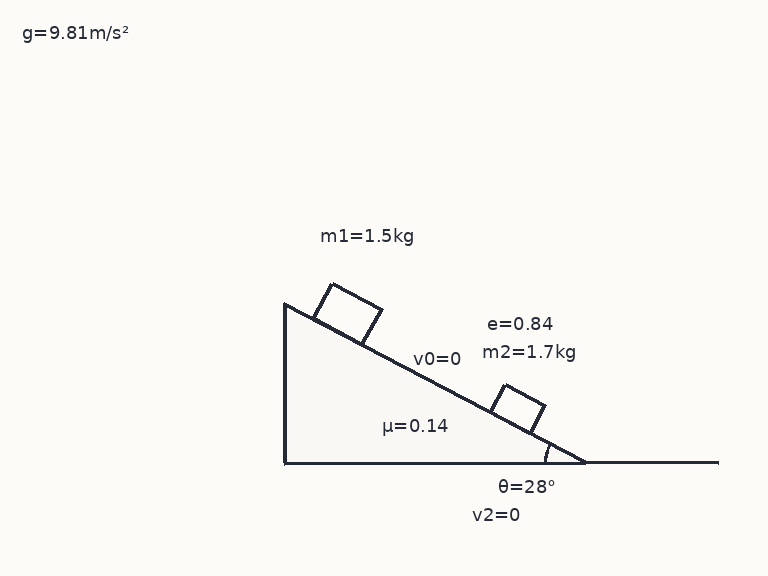block: (310, 280, 383, 346), (488, 382, 546, 435)
ramp: (282, 301, 587, 465)
